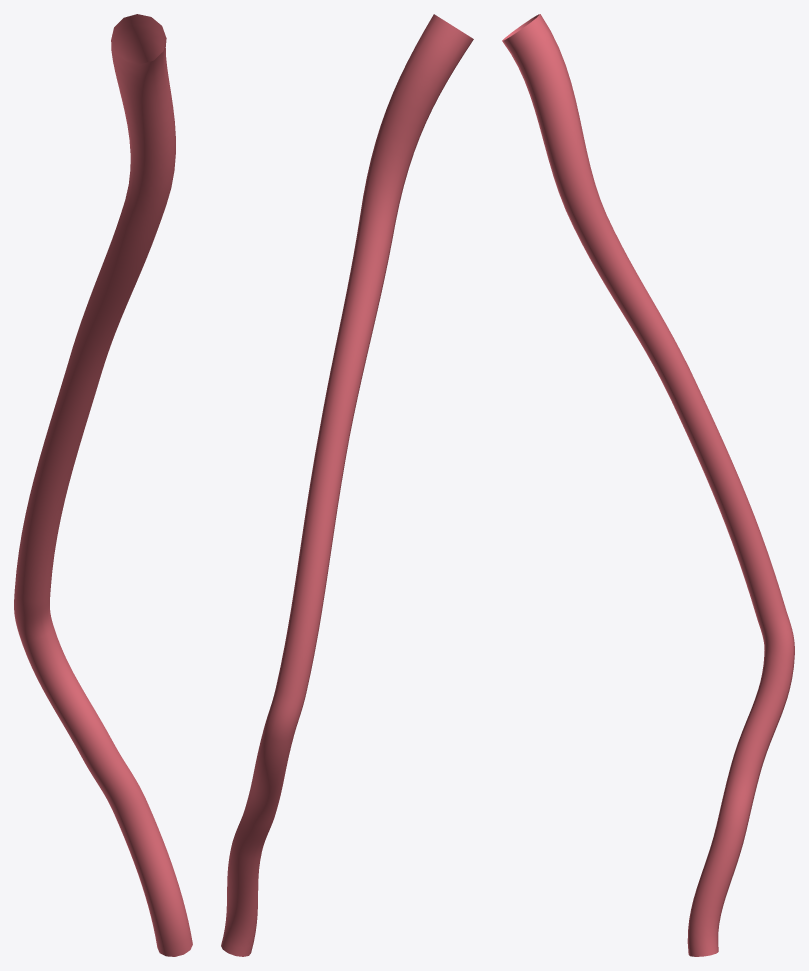
3 views of the same model, side by side, from view 1: azimuth 30°, elevation 25°; view 2: azimuth 150°, elevation 25°; view 3: azimuth 270°, elevation 25° (orthographic). The views are drawn at different scales.
Parts seen in each view (by area): view 1: ZA_768f60e6dbb0fa07; view 2: ZA_768f60e6dbb0fa07; view 3: ZA_768f60e6dbb0fa07.
Boxes of the visible parts, x1,y1,x2,y2 form: ZA_768f60e6dbb0fa07: (14, 14, 192, 956); ZA_768f60e6dbb0fa07: (221, 14, 473, 956); ZA_768f60e6dbb0fa07: (502, 14, 794, 956).
Size of the model in its own units: 0.0351 by 0.192 by 0.0577.
